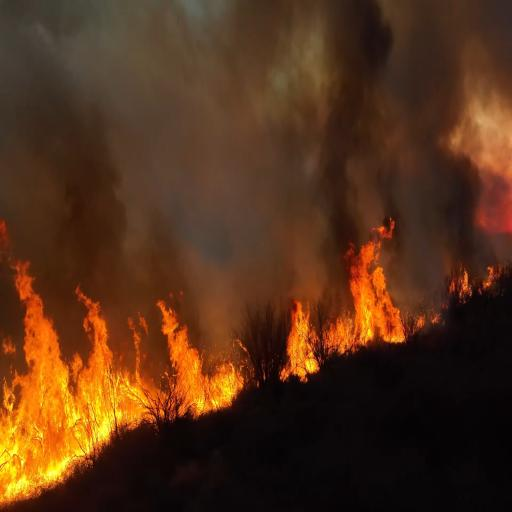fire: (0, 235, 67, 512), (63, 285, 136, 459), (136, 269, 212, 421), (330, 214, 404, 356), (277, 296, 325, 378), (201, 345, 242, 411)
smoke: (0, 0, 113, 229), (402, 23, 482, 256), (308, 0, 392, 207)
